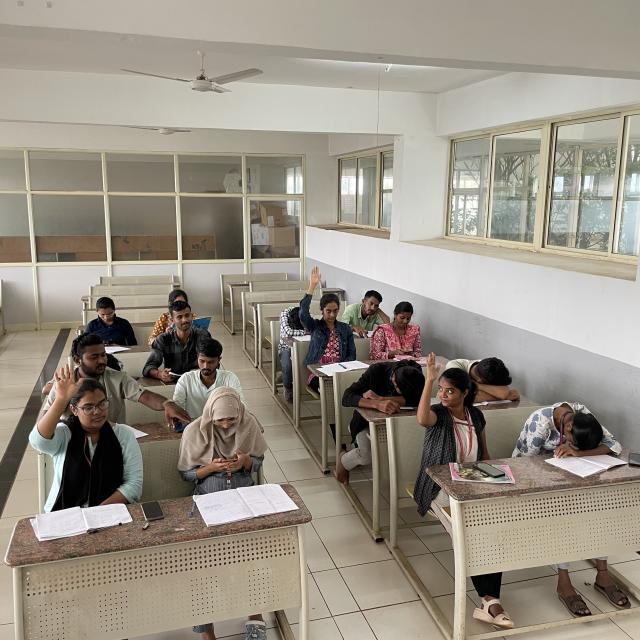Hand Rising: (36, 361, 142, 493), (418, 354, 483, 449), (300, 264, 359, 360)
Reading: (152, 290, 214, 346)
Sleeping: (516, 398, 620, 459), (352, 360, 424, 412), (448, 355, 519, 400), (275, 295, 328, 343)
Using Phone: (180, 392, 264, 479), (90, 298, 142, 348), (373, 303, 423, 355)
